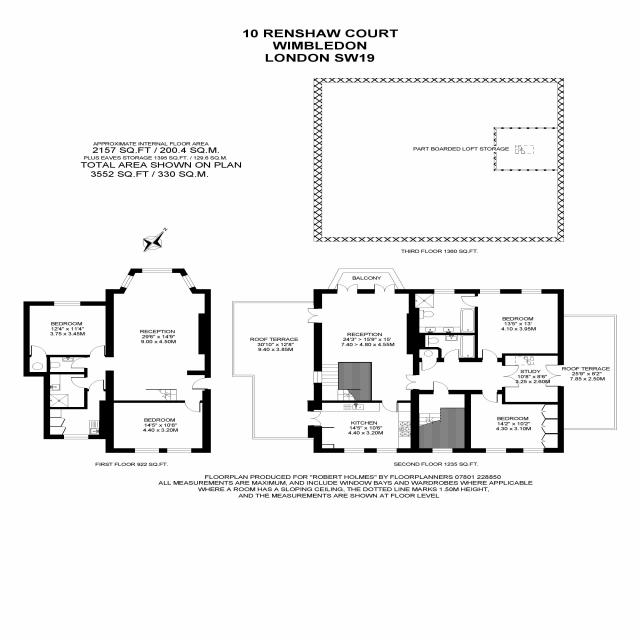DOOR: (191, 377, 211, 390), (432, 380, 450, 394), (481, 390, 499, 403), (481, 349, 498, 362), (443, 349, 460, 362), (460, 295, 478, 307), (381, 400, 398, 412), (70, 377, 87, 389), (71, 357, 88, 369), (89, 345, 106, 357), (88, 379, 104, 391), (184, 401, 200, 413)
DOUBLE DOOR: (545, 364, 564, 387), (502, 365, 520, 388), (307, 307, 322, 323), (405, 374, 420, 390), (374, 283, 395, 294), (308, 411, 322, 426), (336, 284, 358, 293)
ROOM: (105, 268, 211, 413), (307, 284, 425, 413), (461, 289, 564, 362), (464, 390, 564, 453), (307, 400, 420, 453), (99, 400, 211, 453), (23, 301, 114, 357), (502, 353, 564, 405)
WINDOW: (181, 274, 196, 289), (120, 274, 134, 289), (141, 268, 173, 273), (53, 301, 81, 306), (134, 448, 160, 453), (166, 448, 192, 453), (479, 289, 501, 294), (313, 371, 322, 383), (485, 448, 506, 453), (523, 448, 544, 453), (432, 448, 453, 453), (344, 448, 365, 453), (376, 448, 397, 453), (521, 289, 542, 294), (434, 289, 455, 294), (63, 435, 89, 439)
